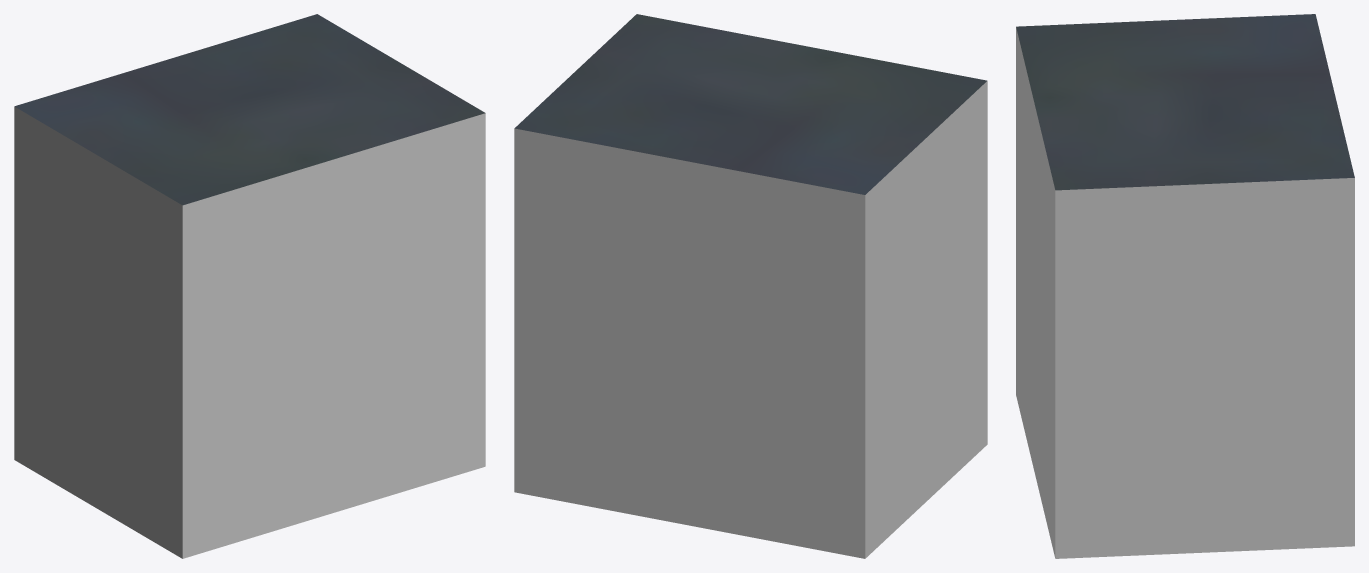
The model's file is DEBW_0010007Tx8y.gltf.
The picture shows the model from 3 angles, left to right: view 1: azimuth 30°, elevation 25°; view 2: azimuth 150°, elevation 25°; view 3: azimuth 270°, elevation 25°; orthographic projection. The views are drawn at different scales.
Parts seen in each view (by area): view 1: Z_UP; view 2: Z_UP; view 3: Z_UP.
Boxes of the visible parts, bbox=[...] form: Z_UP: bbox=[14, 14, 485, 558]; Z_UP: bbox=[514, 14, 987, 558]; Z_UP: bbox=[1016, 14, 1354, 558].
Bounding box in the file's own units: 3.08 × 3 × 2.5.
Materials: 2 (1 with a texture image).
